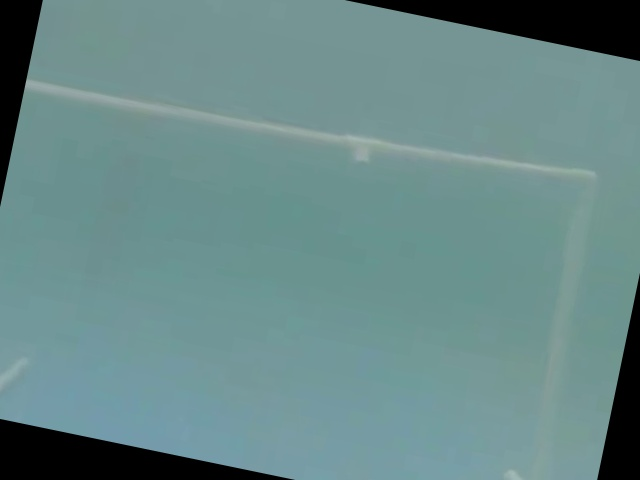gate: (17, 70, 602, 474)
